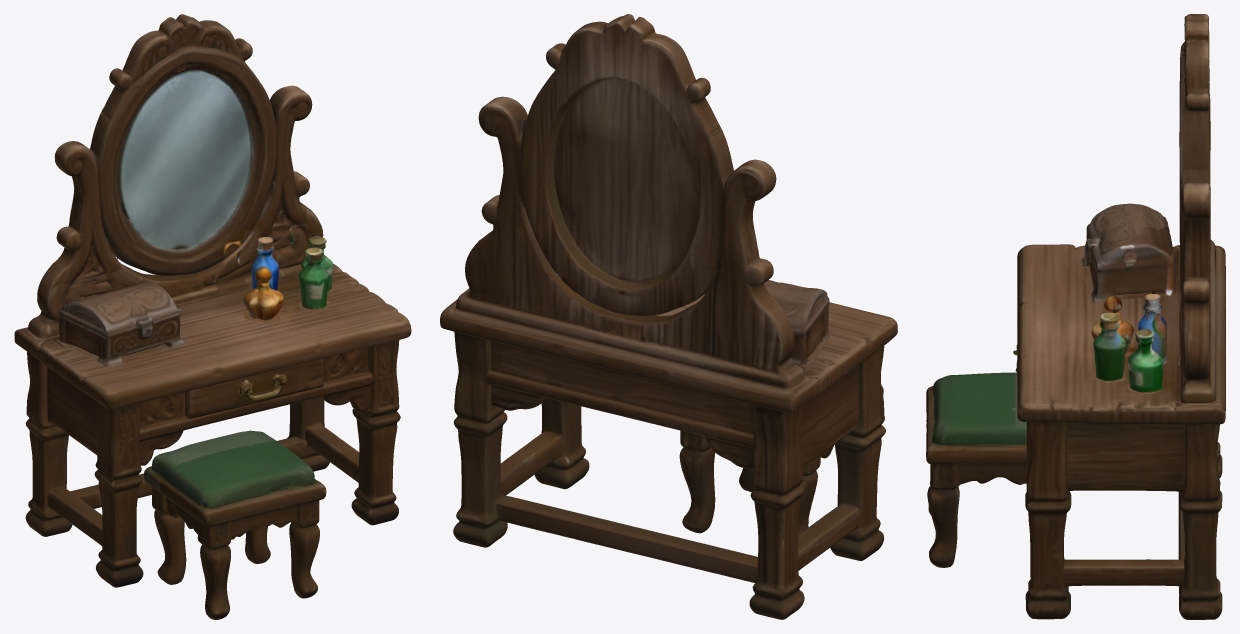
File: vanity.glb
The picture shows the model from 3 angles, left to right: view 1: azimuth 30°, elevation 25°; view 2: azimuth 150°, elevation 25°; view 3: azimuth 270°, elevation 25°; orthographic projection. The views are drawn at different scales.
Visible parts, largest first — view 1: geometry_0; view 2: geometry_0; view 3: geometry_0.
Part boxes in pixels (x1,y1,x2,y2): geometry_0: [14, 14, 411, 619]; geometry_0: [440, 14, 897, 619]; geometry_0: [926, 14, 1225, 619].
Size of the model in its own units: 0.9113 by 1.4 by 0.701.
1 material, 1 textured.
